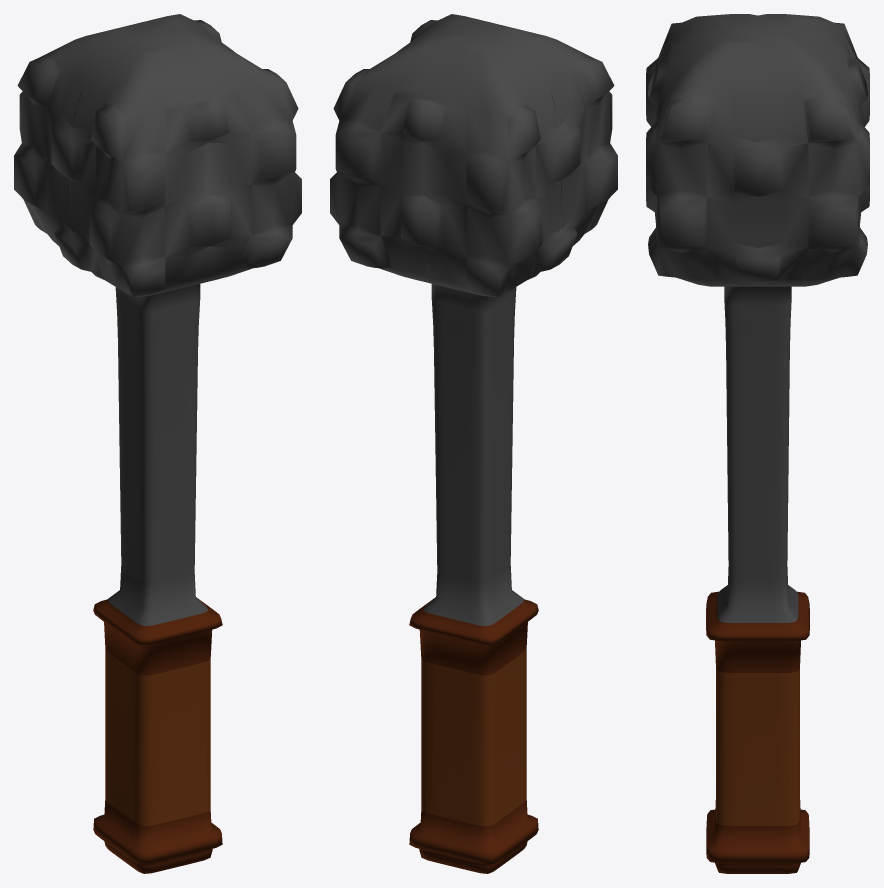
File: Mace.fbx
3 views of the same model, side by side, from view 1: azimuth 30°, elevation 25°; view 2: azimuth 150°, elevation 25°; view 3: azimuth 270°, elevation 25° (orthographic).
Parts seen in each view (by area): view 1: Cube; view 2: Cube; view 3: Cube.
Part boxes in pixels (bbox=[...]): Cube: bbox=[14, 14, 301, 873]; Cube: bbox=[330, 14, 617, 873]; Cube: bbox=[646, 14, 869, 873].
Size of the model in its own units: 162 by 659 by 161.
